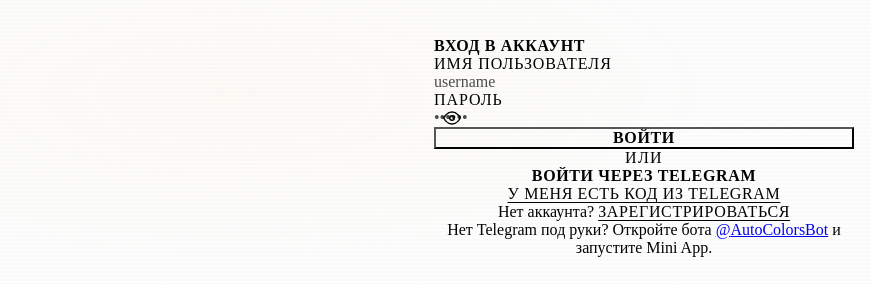
AuthForm › shows error when link creation fails
This screenshot has width=871, height=284.
Click the button "Войти через Telegram".
click(644, 176)  # box [434,167,854,185]
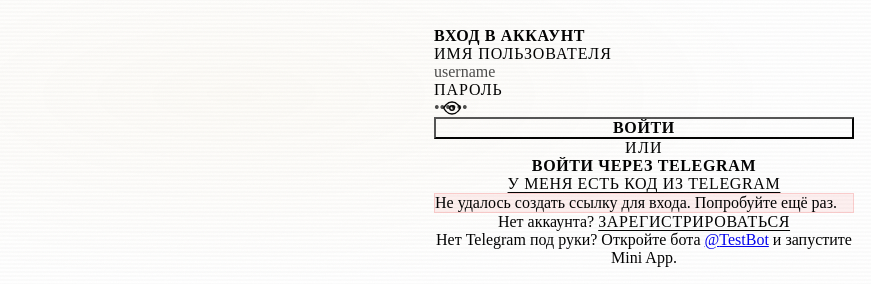
Check: the text "Не удалось создать ссылку для входа. Попробуйте ещё раз." is shown, box [434,193,854,213]
